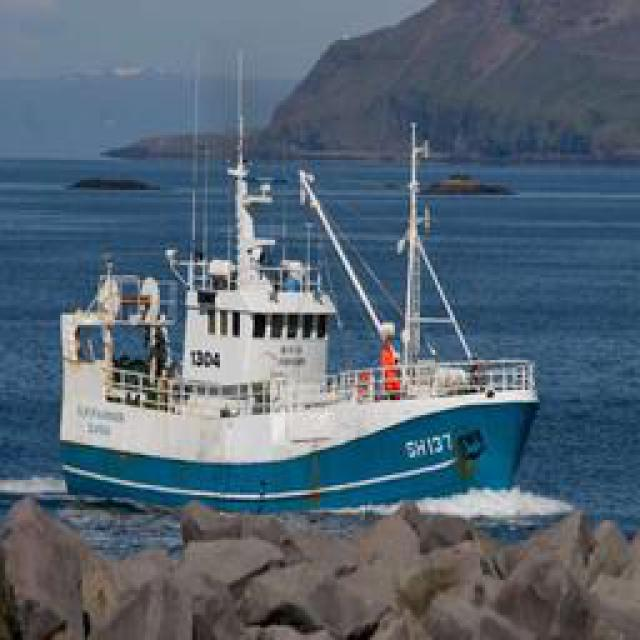Ship: (52, 44, 552, 507)
